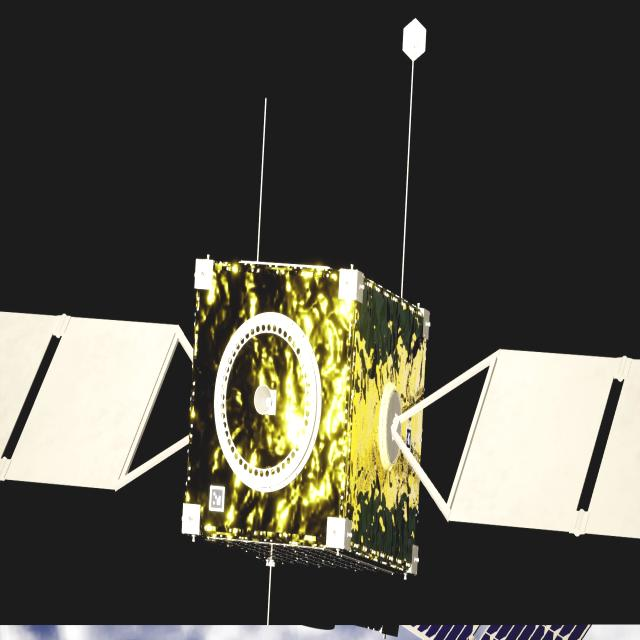satellite: (0, 258, 640, 574)
